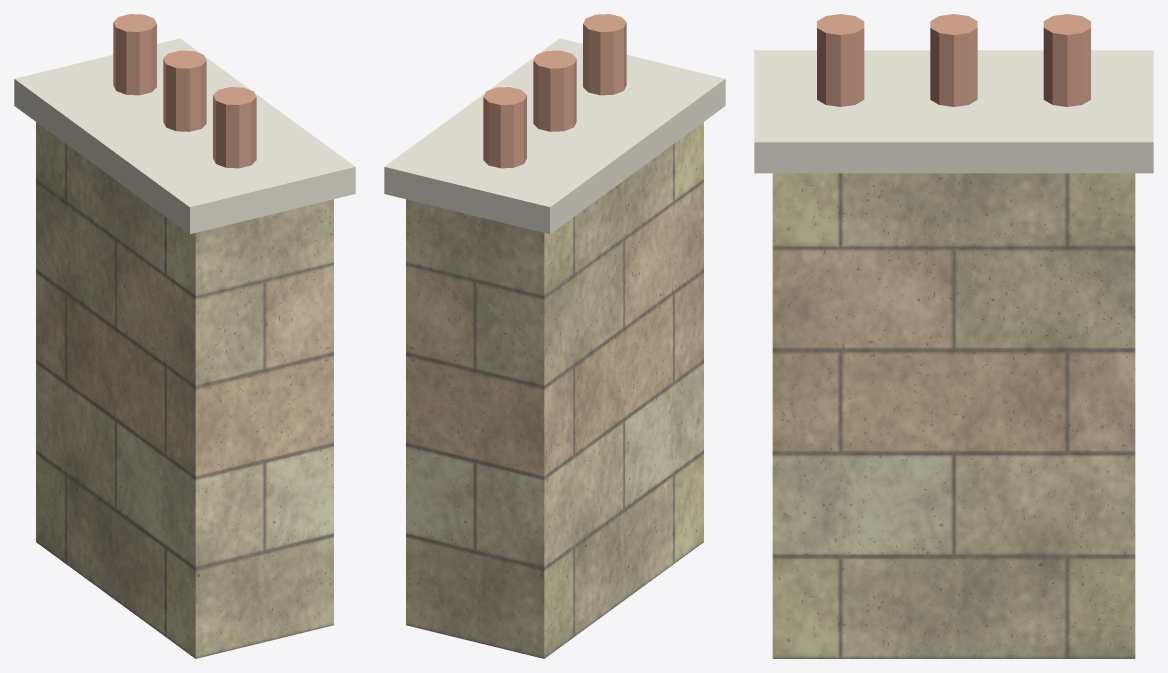
Rendered from chimney.glb.
3 views of the same model, side by side, from view 1: azimuth 30°, elevation 25°; view 2: azimuth 150°, elevation 25°; view 3: azimuth 270°, elevation 25° (orthographic). The views are drawn at different scales.
Parts seen in each view (by area): view 1: chimney_ashlar, chimney_trim, chimney_pot; view 2: chimney_ashlar, chimney_trim, chimney_pot; view 3: chimney_ashlar, chimney_trim, chimney_pot.
Part boxes in pixels (bbox=[...]): chimney_ashlar: bbox=[36, 122, 333, 658]; chimney_trim: bbox=[14, 38, 355, 234]; chimney_pot: bbox=[113, 14, 256, 168]; chimney_ashlar: bbox=[406, 122, 703, 658]; chimney_trim: bbox=[384, 38, 725, 234]; chimney_pot: bbox=[483, 14, 626, 168]; chimney_ashlar: bbox=[772, 173, 1135, 658]; chimney_trim: bbox=[754, 50, 1153, 173]; chimney_pot: bbox=[817, 14, 1090, 106].
Bounding box in the file's own units: 0.96 × 2.9 × 1.76.
3 materials, 1 textured.
